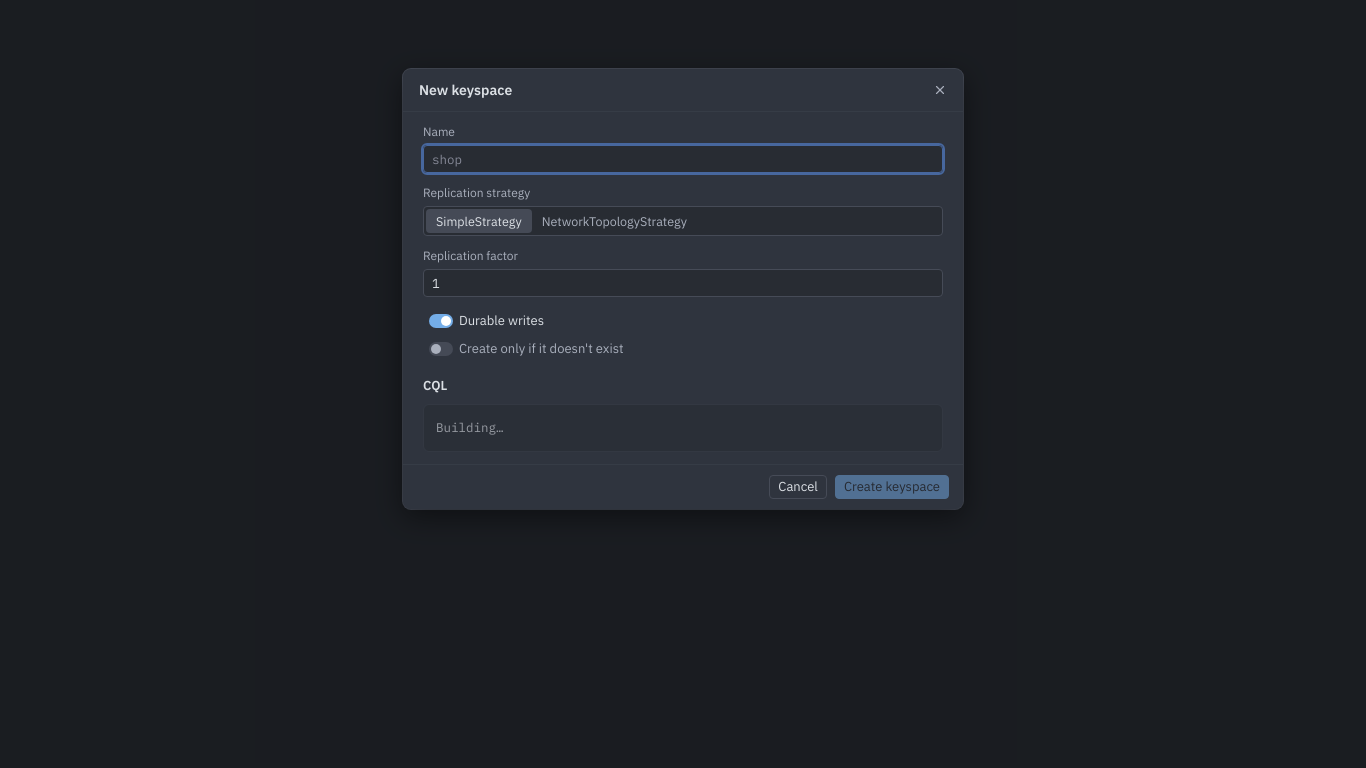
Test: NewKeyspaceDialog › switches to NetworkTopologyStrategy with datacenters prefilled from the cluster
The image size is (1366, 768).
Click the radio button labelled "NetworkTopologyStrategy". click: (614, 221)
box: [532,209,697,233]
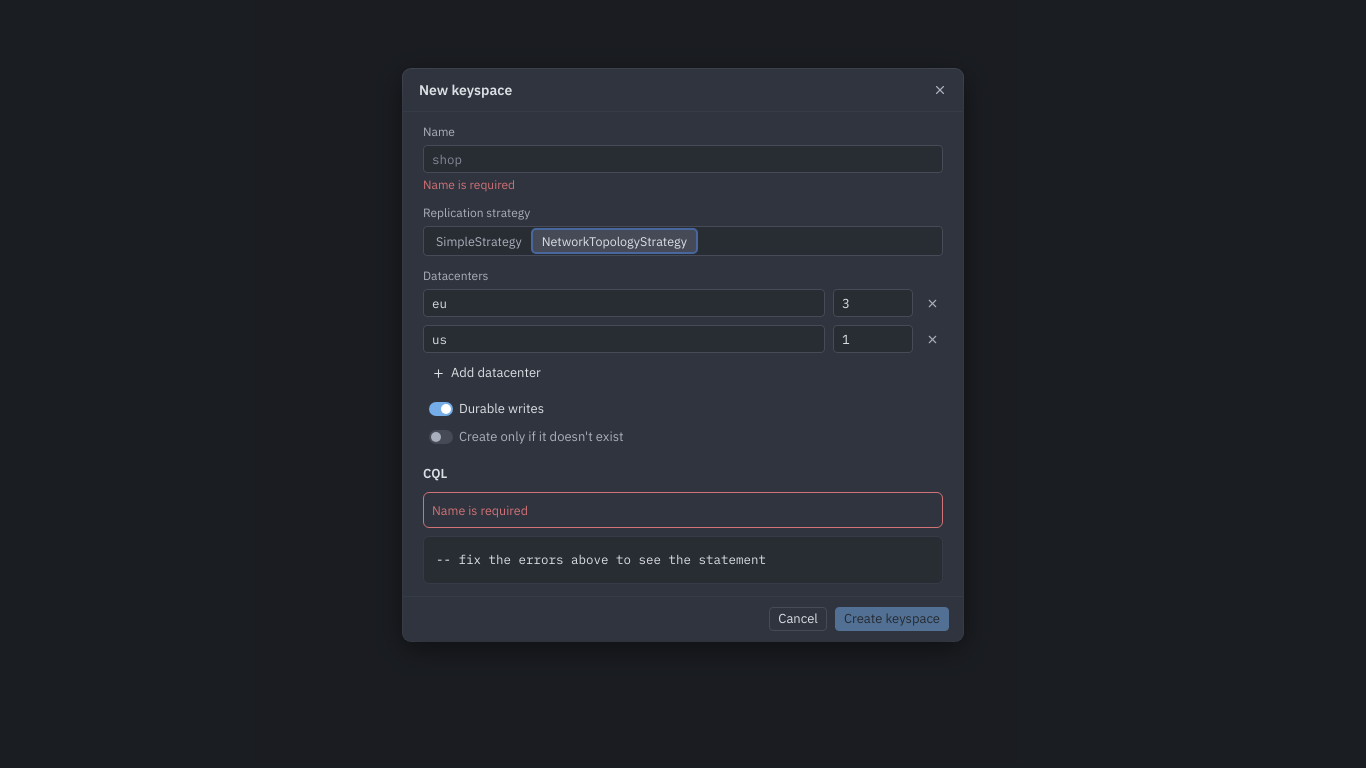
Now the label labelled "Replication factor" is gone
Now the field named "Datacenter 1 name" holds "eu", box [423,289,825,317]
Now the number field named "Datacenter 1 replication factor" holds "3", box [833,289,913,317]
